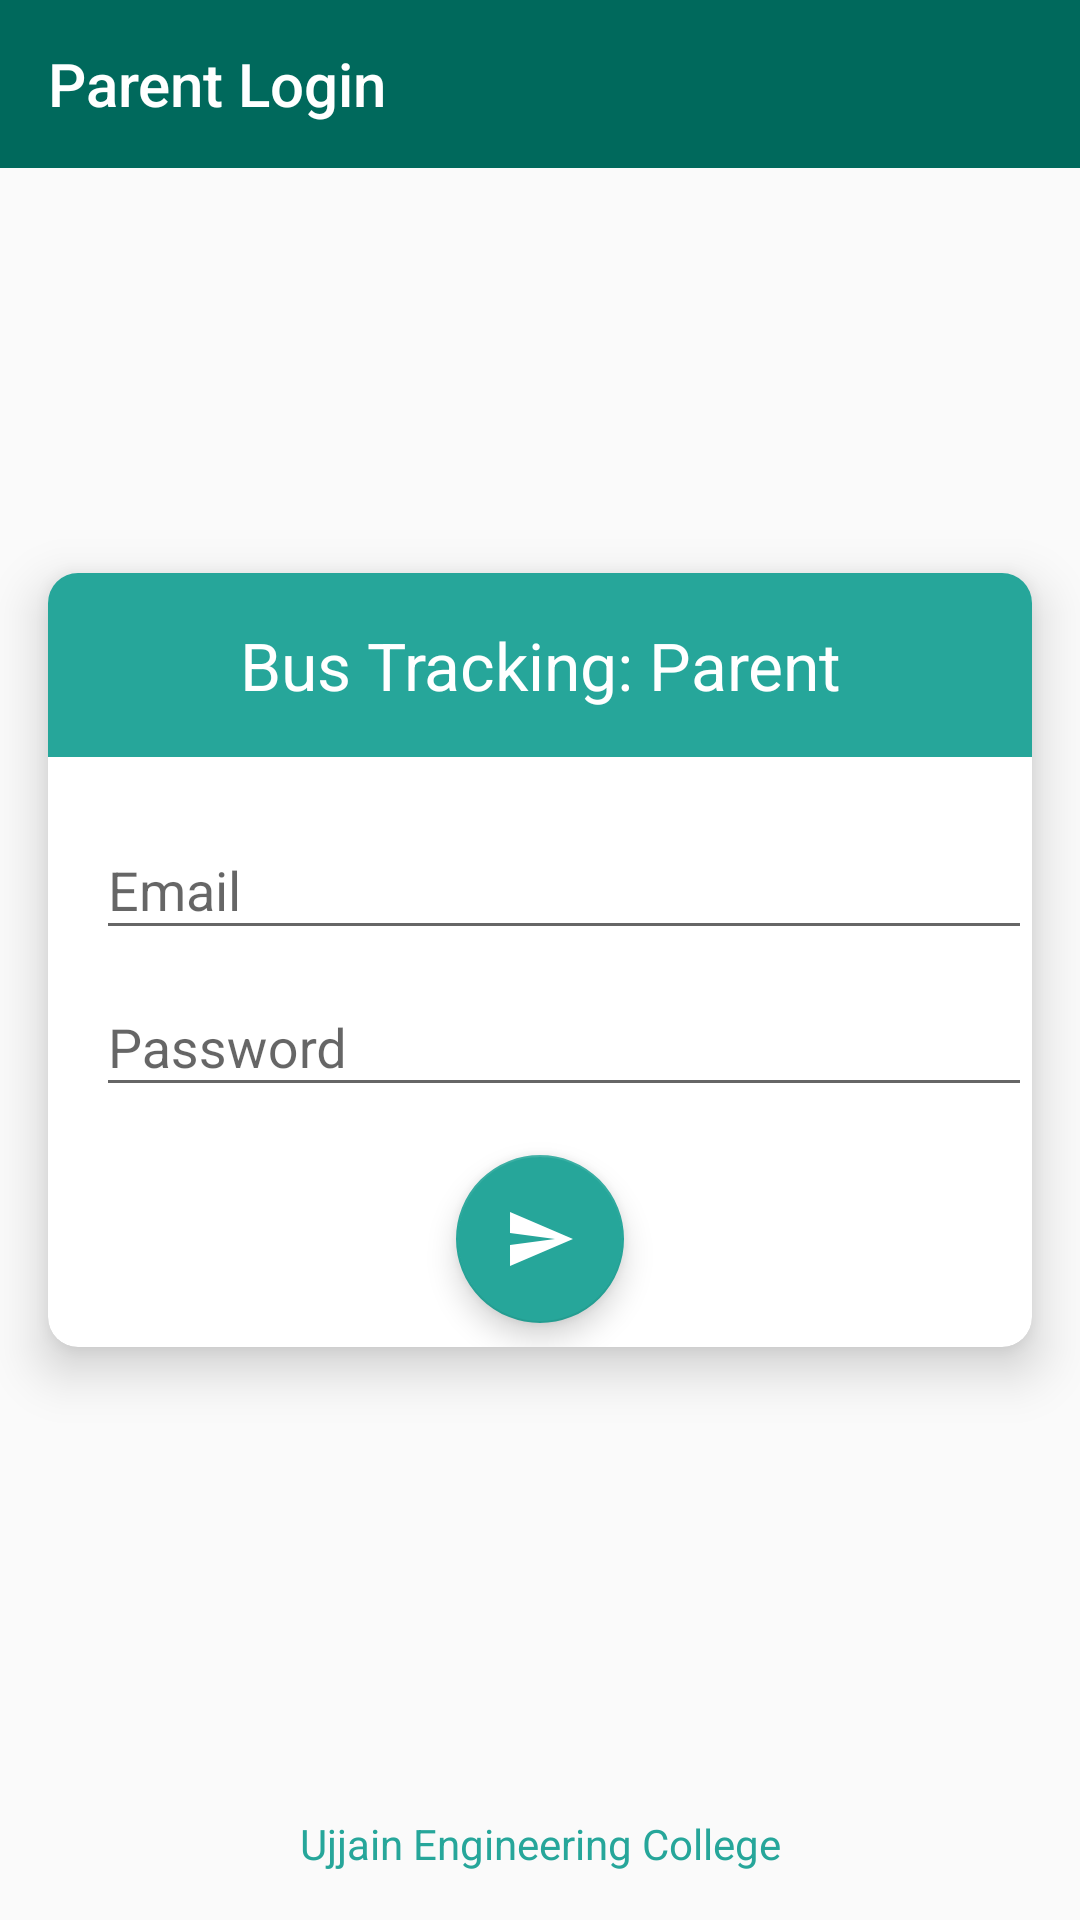

Icon click points for this 1080 x 1920 phone screenshot, format (x=x, y=y):
send: (x=540, y=1239)
